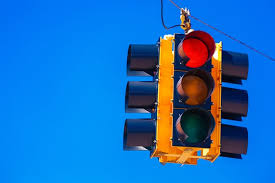traffic light: (114, 14, 264, 171)
